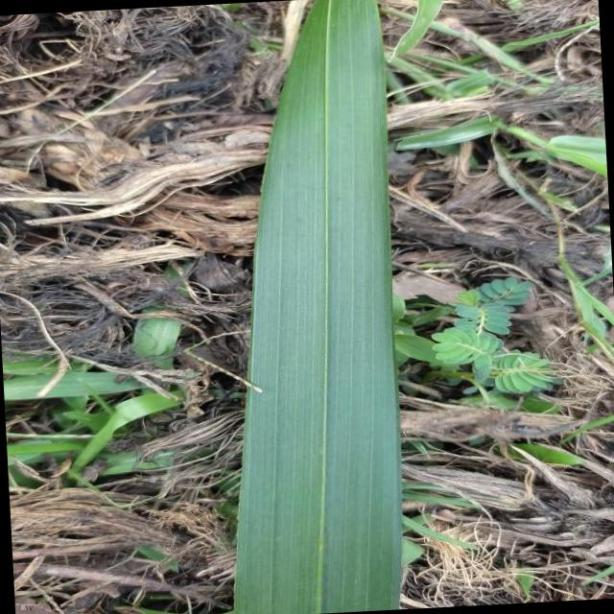Healthy: (242, 0, 404, 614)
